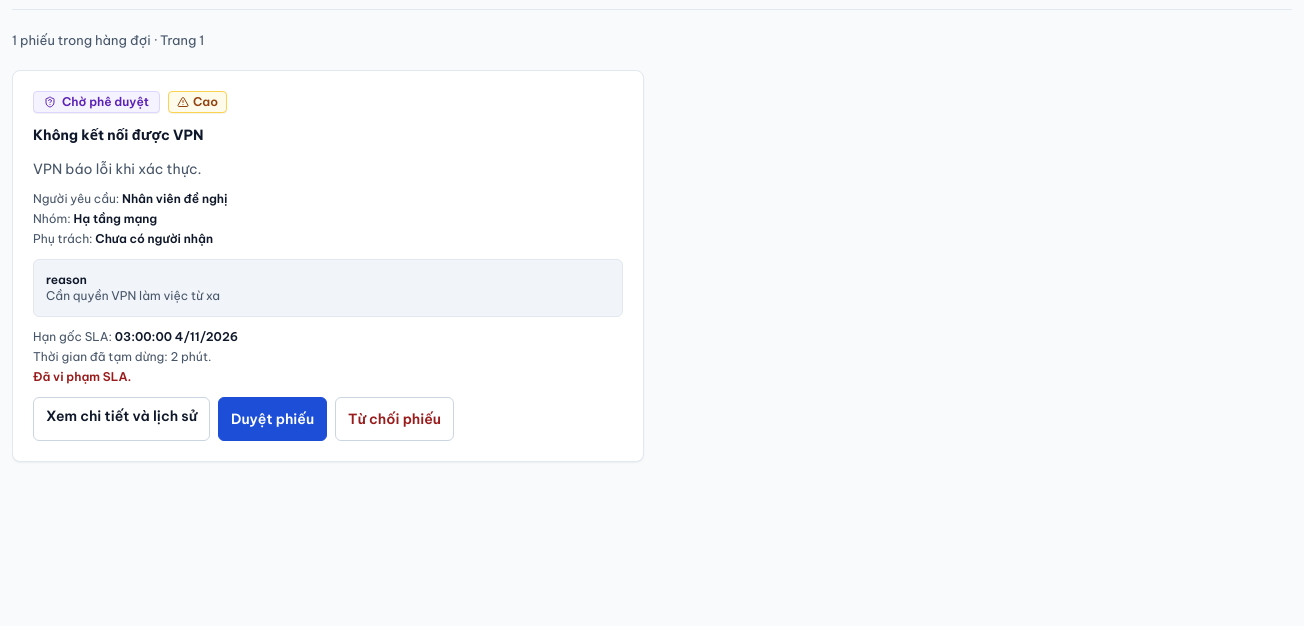
Test: server-side ticket queues › requires confirmation and a rejection reason, submitting the observed version
The width and height of the screenshot is (1304, 626).
Check: the text "Cần quyền VPN làm việc từ xa" is shown, box [46,288,220,303]
Click the button "Từ chối phiếu" at [395, 419], box [335,397,454,441]
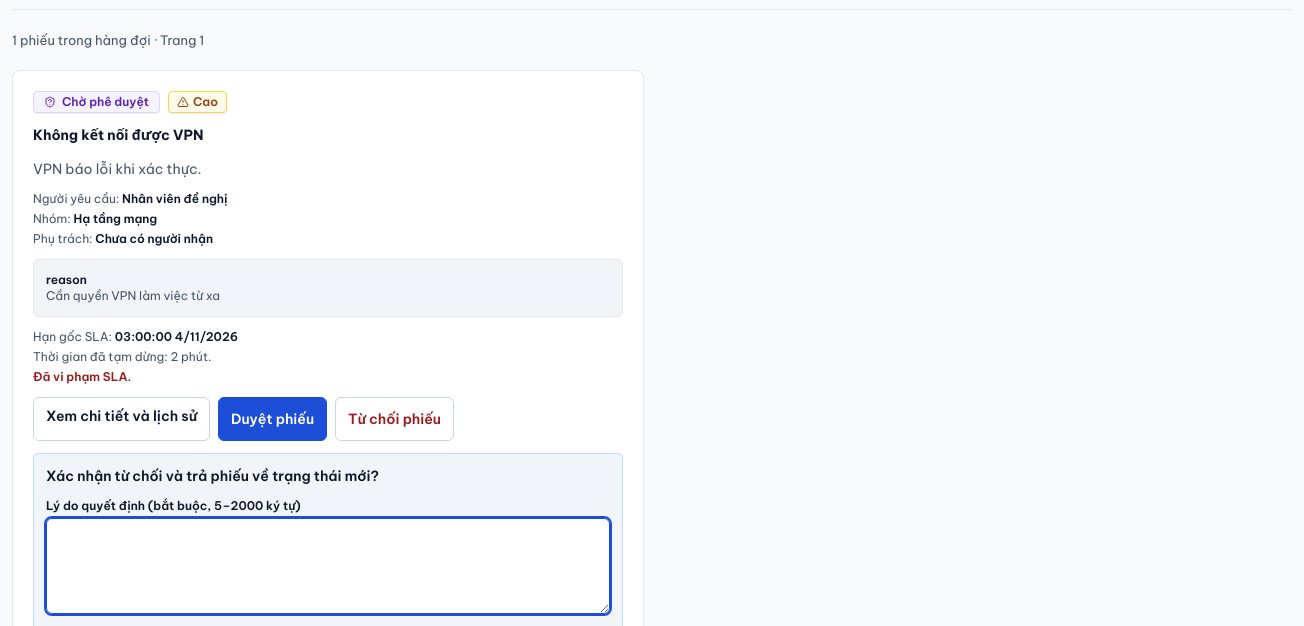
Type "Thiếu thông tin phạm vi quyền truy cập" into the text box labelled "Lý do quyết định (bắt buộc, 5–2000 ký tự)" at [328, 566], box [46,518,610,614]
(page scrolled)
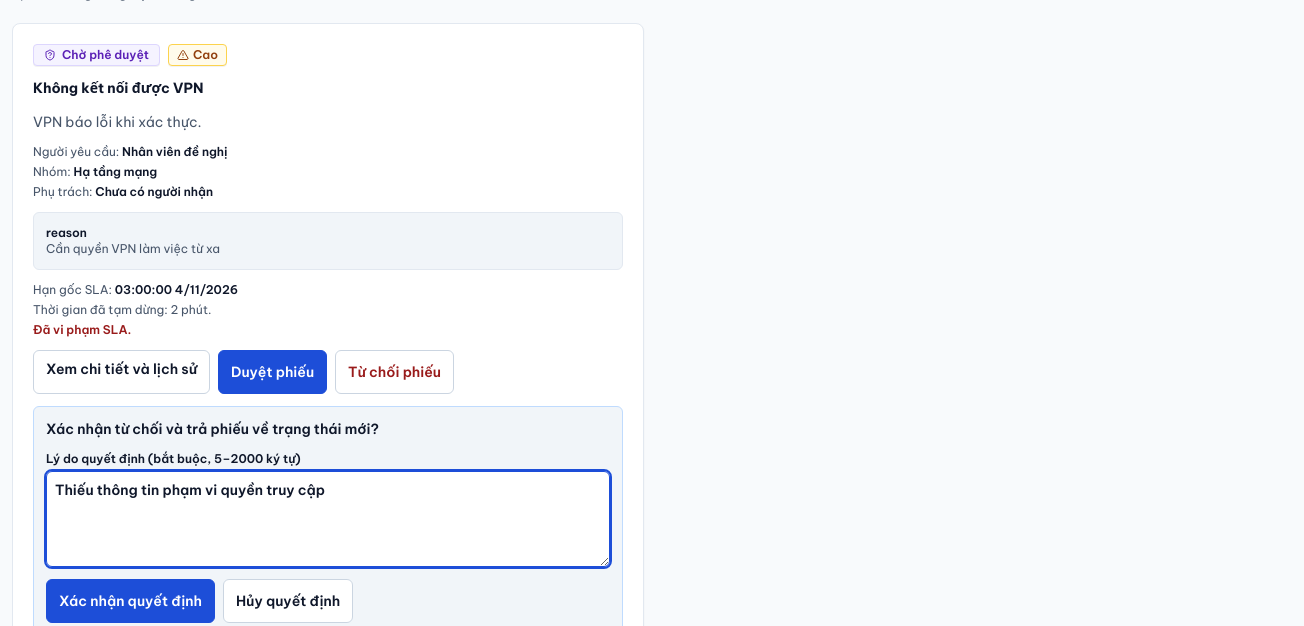
Click the button "Xác nhận quyết định" at [130, 601], box [46,579,215,623]
(page scrolled)
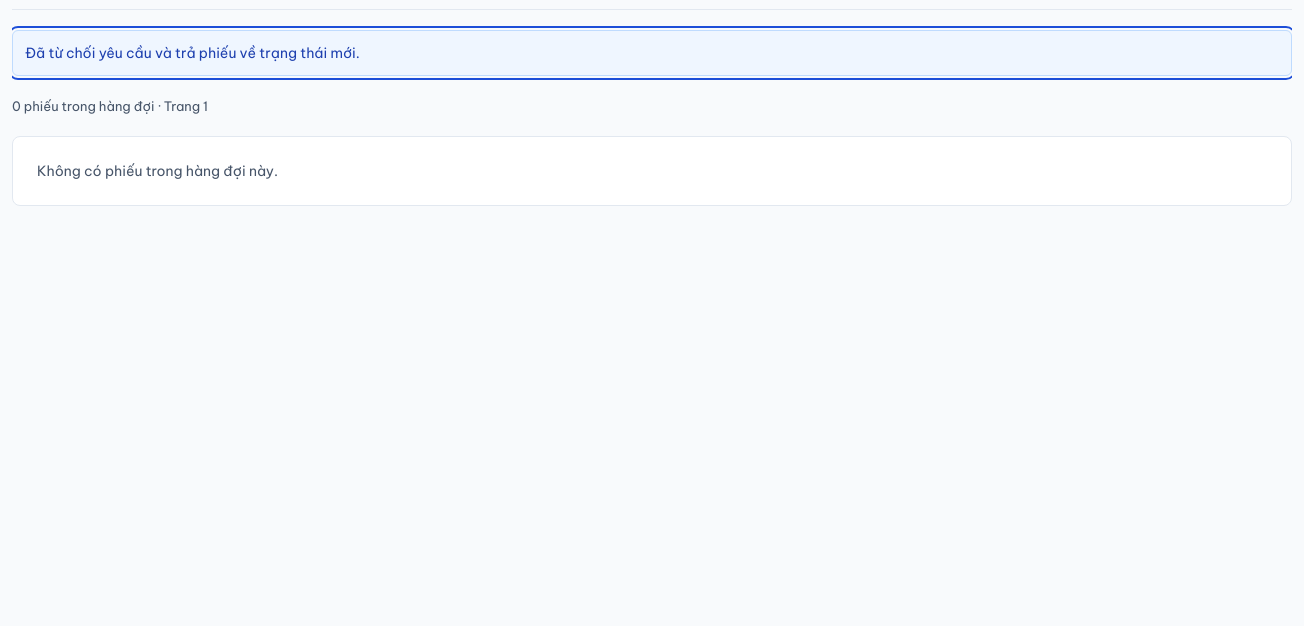
Check: the text "Đã từ chối yêu cầu và trả phiếu về trạng thái mới." is shown, box [12,30,1292,76]
